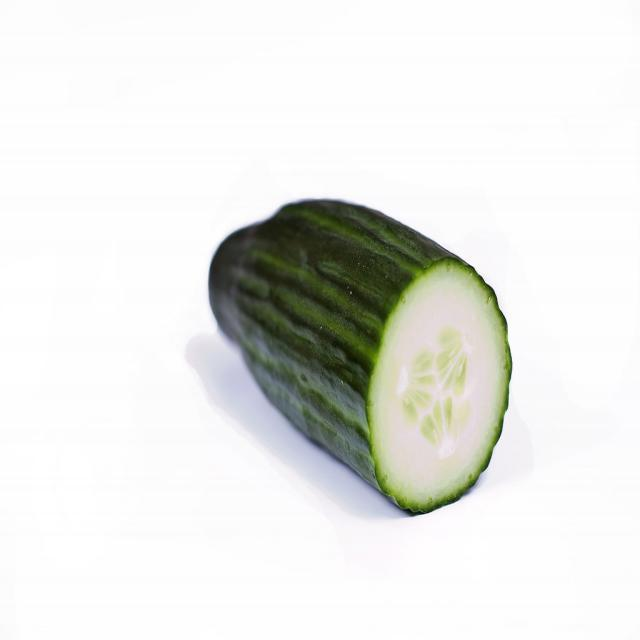Cucumber: (208, 195, 513, 515)
